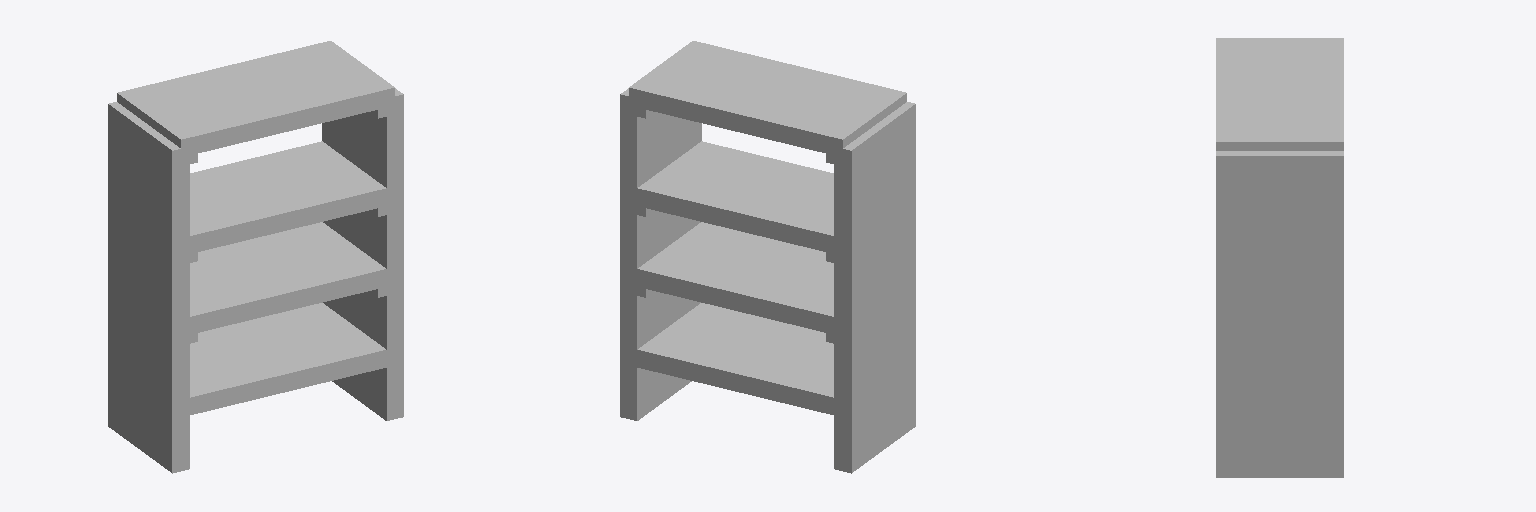
The model's file is shelf.obj.
The picture shows the model from 3 angles: view 1: azimuth 30°, elevation 25°; view 2: azimuth 150°, elevation 25°; view 3: azimuth 270°, elevation 25°; orthographic projection.
Visible parts, largest first — view 1: object 1; view 2: object 1; view 3: object 1.
Part boxes in pixels (bbox=[...]): object 1: bbox=[108, 41, 403, 473]; object 1: bbox=[620, 41, 915, 473]; object 1: bbox=[1216, 38, 1343, 477].
Bounding box in the file's own units: 2.7 × 3.7 × 1.3.